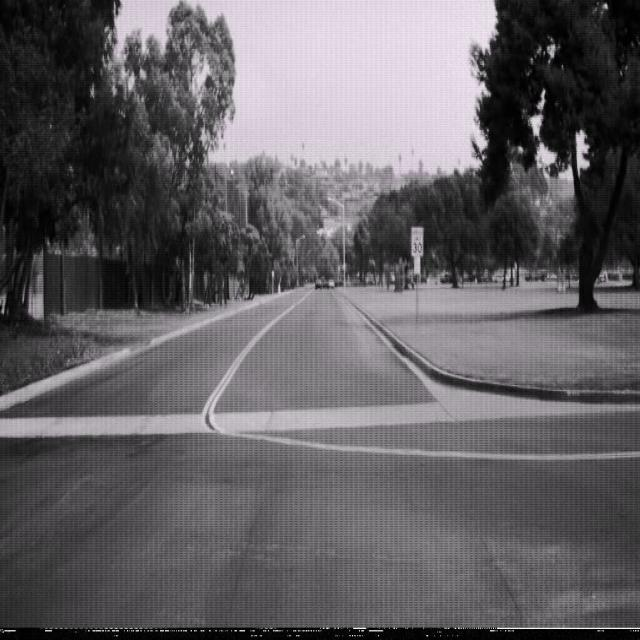speedLimit30: (410, 225, 424, 258)
